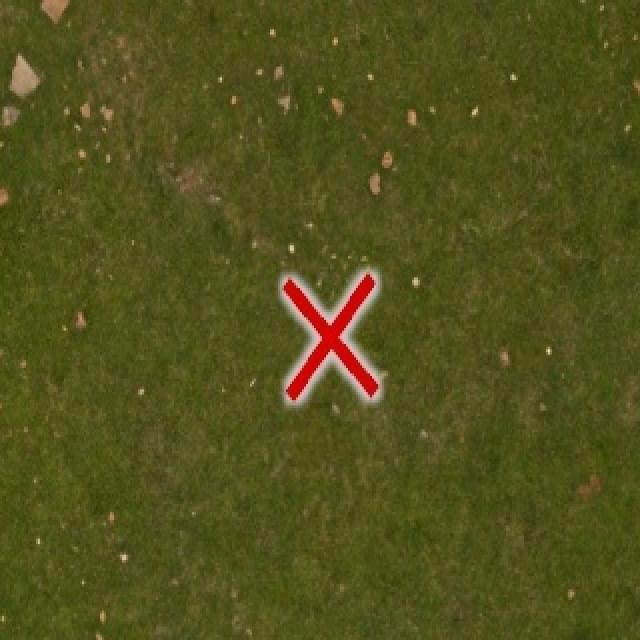x_marker: (283, 273, 377, 399)
